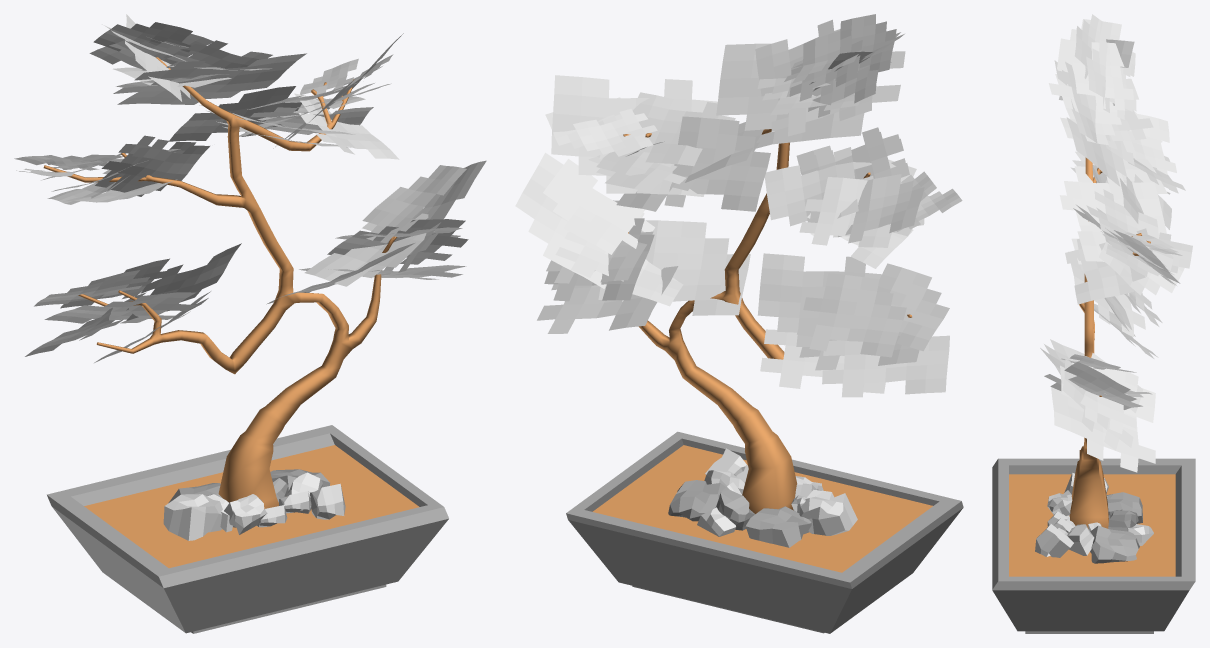
File: Bonsai_Tree.fbx
3 renders of one model, left to right at view 1: azimuth 30°, elevation 25°; view 2: azimuth 150°, elevation 25°; view 3: azimuth 270°, elevation 25°, orthographic. The views are drawn at different scales.
Parts seen in each view (by area): view 1: node_15481102_7d8a_4232_9376_63444daec736_mesh0, node_45f7fe98_7077_45e8_a57a_f25a718a6298_mesh0, node_15481102_7d8a_4232_9376_63444daec736_mesh1, node_d488121d_d58d_41a1_a44b_12b7e816352b_mesh0, node_2b18ce06_b6d2_463e_ba0f_36cd2d32f202_mesh0, node_4fb27325_9bd6_456c_9d67_de3c1b3f57d7_mesh0, node_d2f68754_76ef_4beb_bdfc_17c94c458716_mesh0, node_31ddb40f_c3f0_4ab9_9390_9d5db96c6aed_mesh0, node_454e93e7_5bcf_4c85_bae2_3a7a67e6d21f_mesh0, node_4b2af6d2_8917_4887_9bc8_2a8c24de2964_mesh0, node_15ce87dd_b1d0_4171_a4f1_5c25b991487e_mesh0, node_67412225_95d8_4c7e_87a6_34f18fd2feb3_mesh0 (+18 smaller); view 2: node_15481102_7d8a_4232_9376_63444daec736_mesh0, node_15481102_7d8a_4232_9376_63444daec736_mesh1, node_45f7fe98_7077_45e8_a57a_f25a718a6298_mesh0, node_793ac165_df63_4c10_8926_f8652c2f0d7e_mesh0, node_eb894cd6_f082_4b02_b9c5_0e0e6f507672_mesh0, node_4fb27325_9bd6_456c_9d67_de3c1b3f57d7_mesh0, node_d488121d_d58d_41a1_a44b_12b7e816352b_mesh0, node_75c15a63_cd4c_4b44_aab5_7d4f89854540_mesh0, node_2b18ce06_b6d2_463e_ba0f_36cd2d32f202_mesh0, node_4cf8f7bf_88a2_4c92_8f29_aa1b4cdcb7fd_mesh0, node_8e80734e_61dd_469a_a1d9_d595e301798e_mesh0, node_2209cfc0_fe8e_4655_afdc_b3e8776fa09e_mesh0 (+32 smaller); view 3: node_15481102_7d8a_4232_9376_63444daec736_mesh0, node_15481102_7d8a_4232_9376_63444daec736_mesh1, node_45f7fe98_7077_45e8_a57a_f25a718a6298_mesh0, node_1bf38cea_8c1c_4205_95f2_906d94fcd383_mesh0, node_28d6bfba_1e9c_424f_bd06_c4313ffd8c35_mesh0, node_67412225_95d8_4c7e_87a6_34f18fd2feb3_mesh0, node_123cc8ed_ba7f_4467_8f3e_6788cfa14207_mesh0, node_c105e32e_1073_4cc1_bf5e_45f6c5fd0cbe_mesh0, node_d488121d_d58d_41a1_a44b_12b7e816352b_mesh0, node_6a8f05a5_9ec6_4270_8f78_b8dbbdb70512_mesh0, node_60c8354e_4b99_4be9_a25e_3dba0589f7f8_mesh0, node_36468faf_f934_4d1d_b306_5bca2e994048_mesh0 (+31 smaller).
Boxes of the visible parts, <box> form: node_15481102_7d8a_4232_9376_63444daec736_mesh0: <box>47,425,448,633</box>; node_45f7fe98_7077_45e8_a57a_f25a718a6298_mesh0: <box>43,57,397,508</box>; node_15481102_7d8a_4232_9376_63444daec736_mesh1: <box>84,445,419,568</box>; node_d488121d_d58d_41a1_a44b_12b7e816352b_mesh0: <box>113,53,306,104</box>; node_2b18ce06_b6d2_463e_ba0f_36cd2d32f202_mesh0: <box>362,165,466,243</box>; node_4fb27325_9bd6_456c_9d67_de3c1b3f57d7_mesh0: <box>169,86,301,141</box>; node_d2f68754_76ef_4beb_bdfc_17c94c458716_mesh0: <box>304,213,434,286</box>; node_31ddb40f_c3f0_4ab9_9390_9d5db96c6aed_mesh0: <box>108,139,209,196</box>; node_454e93e7_5bcf_4c85_bae2_3a7a67e6d21f_mesh0: <box>44,292,196,323</box>; node_4b2af6d2_8917_4887_9bc8_2a8c24de2964_mesh0: <box>163,494,222,540</box>; node_15ce87dd_b1d0_4171_a4f1_5c25b991487e_mesh0: <box>327,219,468,264</box>; node_67412225_95d8_4c7e_87a6_34f18fd2feb3_mesh0: <box>294,93,399,159</box>; node_15481102_7d8a_4232_9376_63444daec736_mesh0: <box>566,431,963,633</box>; node_15481102_7d8a_4232_9376_63444daec736_mesh1: <box>592,445,932,572</box>; node_45f7fe98_7077_45e8_a57a_f25a718a6298_mesh0: <box>623,129,911,513</box>; node_793ac165_df63_4c10_8926_f8652c2f0d7e_mesh0: <box>797,273,906,357</box>; node_eb894cd6_f082_4b02_b9c5_0e0e6f507672_mesh0: <box>598,220,750,315</box>; node_4fb27325_9bd6_456c_9d67_de3c1b3f57d7_mesh0: <box>664,116,770,211</box>; node_d488121d_d58d_41a1_a44b_12b7e816352b_mesh0: <box>716,43,905,144</box>; node_75c15a63_cd4c_4b44_aab5_7d4f89854540_mesh0: <box>551,75,717,193</box>; node_2b18ce06_b6d2_463e_ba0f_36cd2d32f202_mesh0: <box>543,159,654,254</box>; node_4cf8f7bf_88a2_4c92_8f29_aa1b4cdcb7fd_mesh0: <box>822,335,949,397</box>; node_8e80734e_61dd_469a_a1d9_d595e301798e_mesh0: <box>757,253,881,346</box>; node_2209cfc0_fe8e_4655_afdc_b3e8776fa09e_mesh0: <box>764,147,873,226</box>; node_15481102_7d8a_4232_9376_63444daec736_mesh0: <box>992,458,1195,633</box>; node_15481102_7d8a_4232_9376_63444daec736_mesh1: <box>1009,474,1175,576</box>; node_45f7fe98_7077_45e8_a57a_f25a718a6298_mesh0: <box>1069,157,1150,528</box>; node_1bf38cea_8c1c_4205_95f2_906d94fcd383_mesh0: <box>1051,387,1155,472</box>; node_28d6bfba_1e9c_424f_bd06_c4313ffd8c35_mesh0: <box>1064,166,1166,261</box>; node_67412225_95d8_4c7e_87a6_34f18fd2feb3_mesh0: <box>1065,228,1152,304</box>; node_123cc8ed_ba7f_4467_8f3e_6788cfa14207_mesh0: <box>1060,356,1138,433</box>; node_c105e32e_1073_4cc1_bf5e_45f6c5fd0cbe_mesh0: <box>1072,42,1133,110</box>; node_d488121d_d58d_41a1_a44b_12b7e816352b_mesh0: <box>1054,60,1134,186</box>; node_6a8f05a5_9ec6_4270_8f78_b8dbbdb70512_mesh0: <box>1044,362,1142,409</box>; node_60c8354e_4b99_4be9_a25e_3dba0589f7f8_mesh0: <box>1090,525,1139,563</box>; node_36468faf_f934_4d1d_b306_5bca2e994048_mesh0: <box>1094,189,1158,249</box>.
Size of the model in its own units: 329 by 418 by 148.
